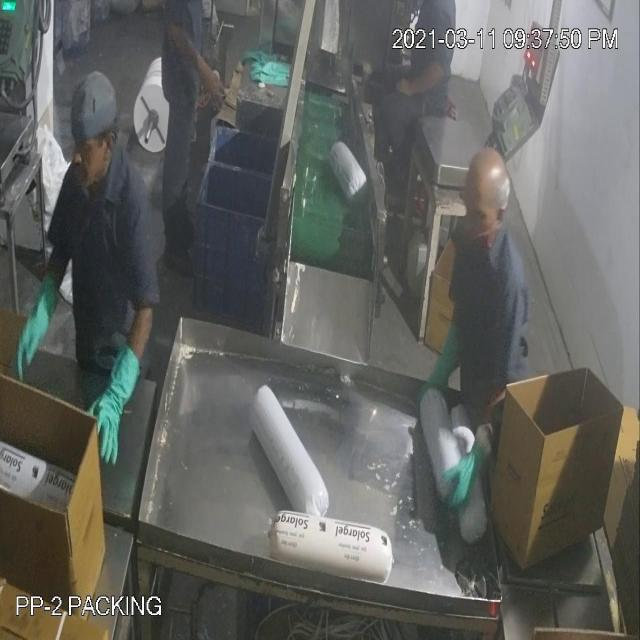No_Gloves: (36, 56, 465, 468)
